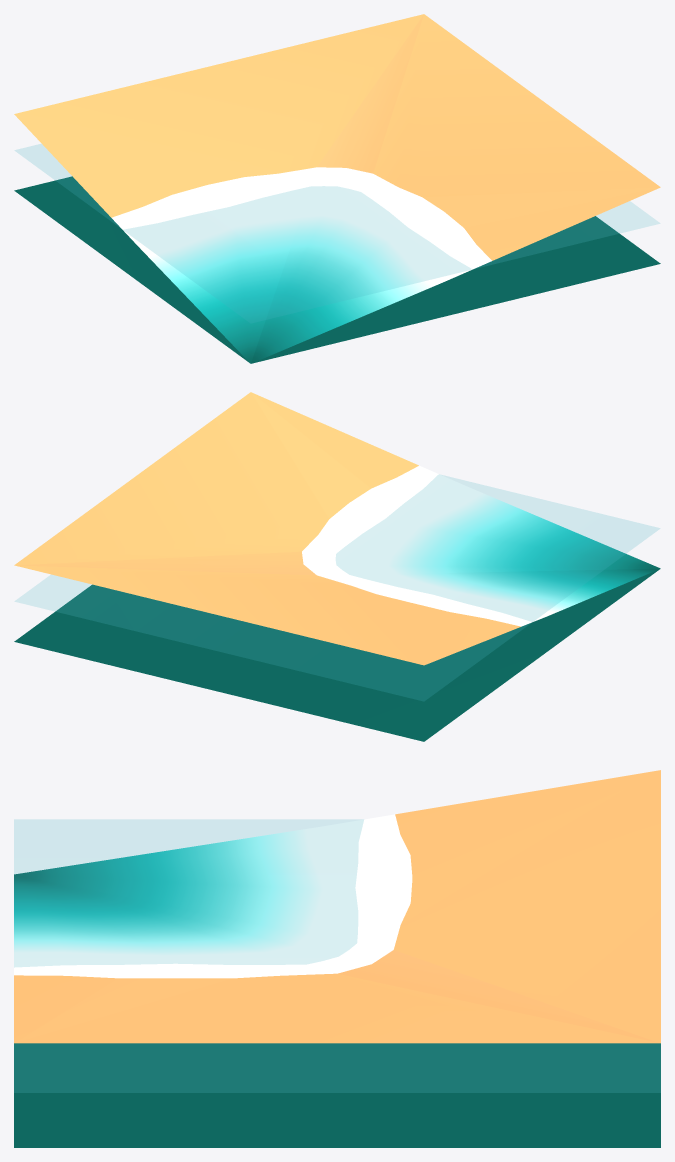
The model's file is Baech_02.glb.
3 renders of one model, top to bottom at view 1: azimuth 30°, elevation 25°; view 2: azimuth 150°, elevation 25°; view 3: azimuth 270°, elevation 25°, orthographic. The views are drawn at different scales.
Visible parts, largest first — view 1: Baech_02; view 2: Baech_02; view 3: Baech_02.
Part boxes in pixels (bbox=[...]): Baech_02: bbox=[14, 14, 660, 363]; Baech_02: bbox=[14, 392, 660, 741]; Baech_02: bbox=[14, 770, 660, 1147].
Bounding box in the file's own units: 15 × 2.67 × 15.
2 materials, 2 textured.
